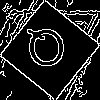Q: (25, 25, 69, 77)
